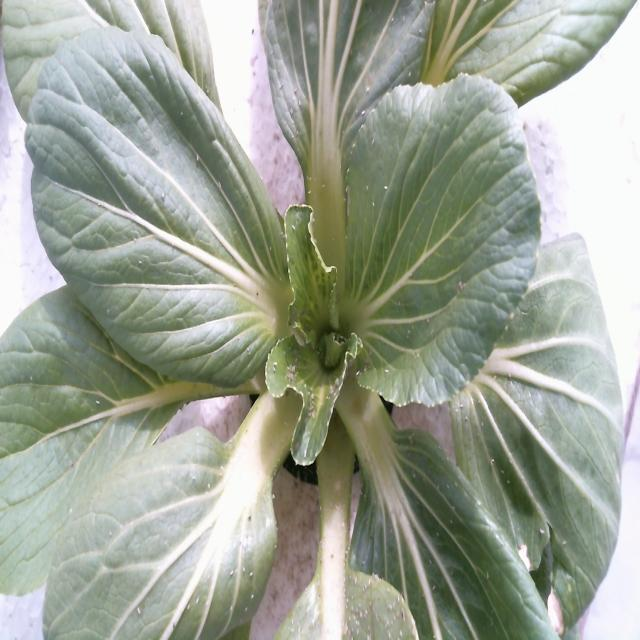pakcoy_tidak_sehat: (4, 0, 584, 635)
